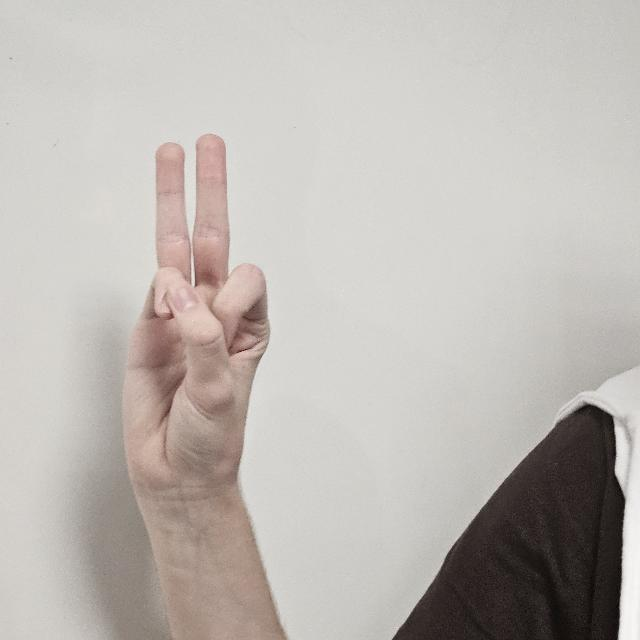R: (124, 128, 270, 518)
